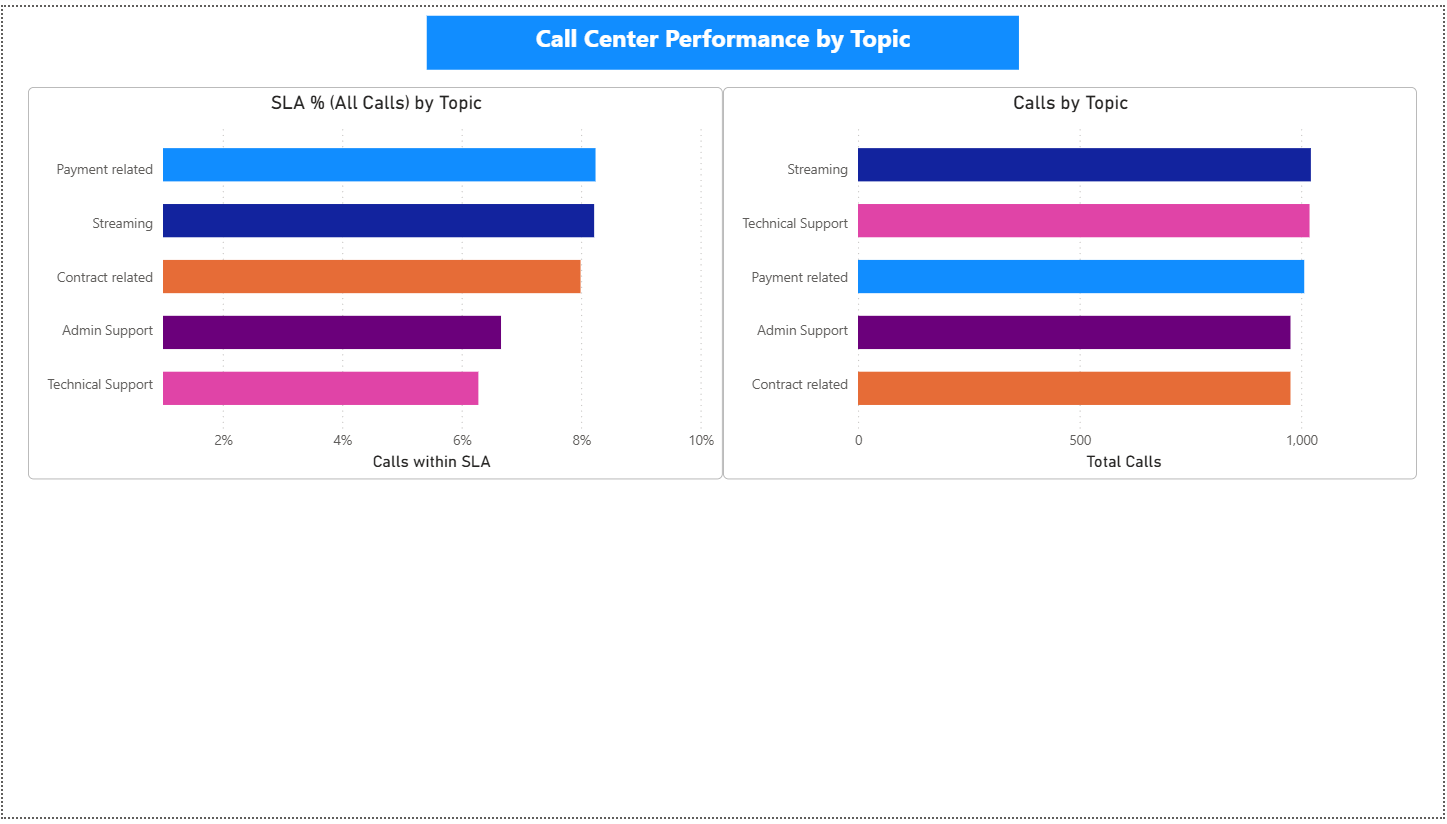

The page's visual inventory and layout, read from the dashboard file:
{"tool":"powerbi","page":{"name":"Topical Analysis","canvas":[1280,720],"ordinal":1},"visuals":[{"type":"clusteredBarChart","title":"SLA % by Topic","fields":{"Category":["CallLog.Topic"],"Y":["CallLog.SLA %"],"Series":["CallLog.Topic"]},"box":[22.2,71.1,617.8,348.9],"z":0},{"type":"textbox","box":[376.7,7.8,526.7,47.8],"z":1000},{"type":"clusteredBarChart","title":"Calls by Topic","fields":{"Category":["CallLog.Topic"],"Y":["CallLog.Total Calls"],"Series":["CallLog.Topic"]},"box":[640,71.1,616.7,348.9],"z":2000}]}

Visuals, with their boxes in screenshot pixels (x1, y1, x2, y2), scaled from the page's 1280x720 canvas onto the 1447x824 screenshot:
"SLA % by Topic" clusteredBarChart: BBox(25, 81, 724, 481)
textbox: BBox(426, 9, 1021, 64)
"Calls by Topic" clusteredBarChart: BBox(724, 81, 1421, 481)
